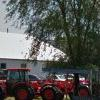Tractor: (9, 54, 89, 100)
